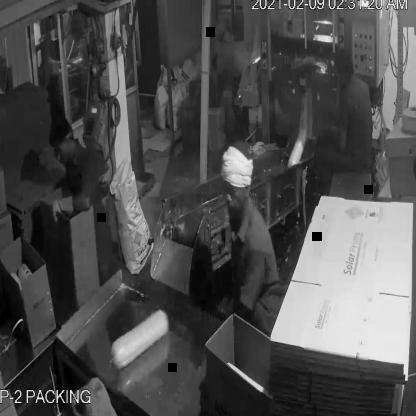glove: (40, 184, 85, 232)
